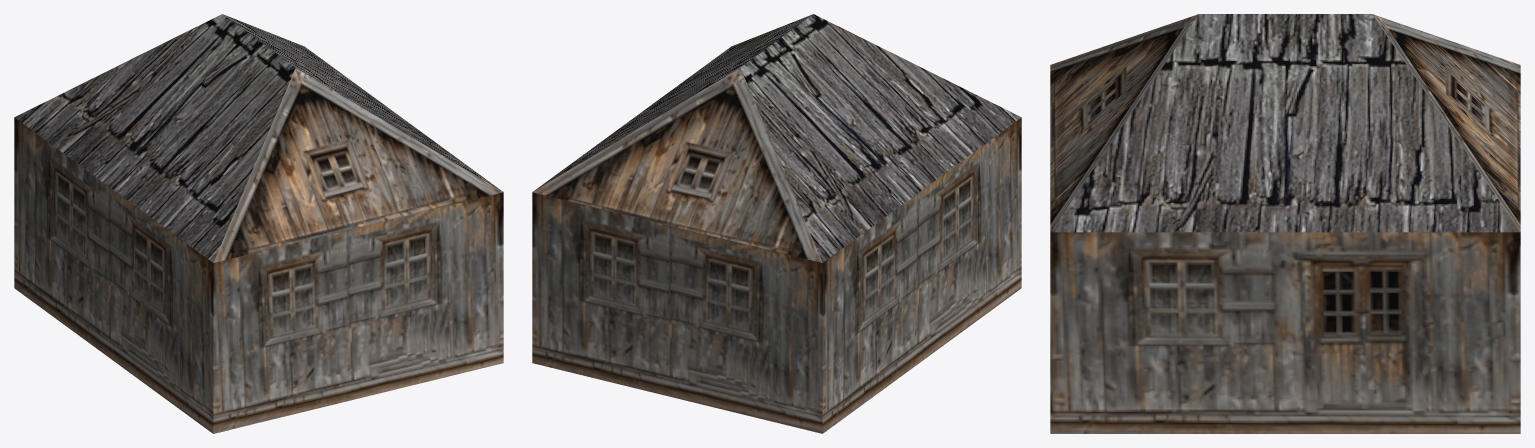
File: house2.fbx
3 renders of one model, left to right at view 1: azimuth 30°, elevation 25°; view 2: azimuth 150°, elevation 25°; view 3: azimuth 270°, elevation 25°, orthographic. The views are drawn at different scales.
Visible parts, largest first — view 1: Cube.004; view 2: Cube.004; view 3: Cube.004.
Part boxes in pixels (x1,y1,x2,y2): Cube.004: (14, 14, 503, 433); Cube.004: (532, 14, 1021, 433); Cube.004: (1050, 14, 1520, 433).
Bounding box in the file's own units: 1600 × 1500 × 1900.
Materials: 1 (1 with a texture image).
